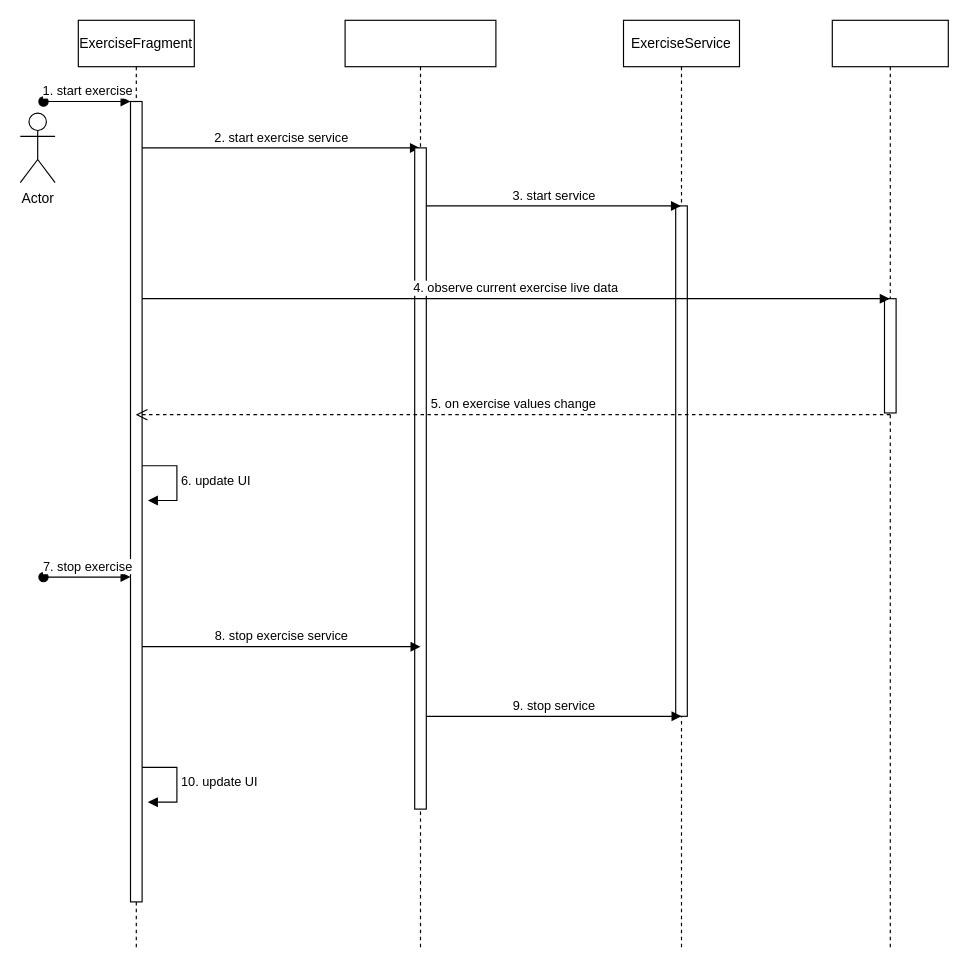
The diagram is 969 pixels wide and 969 high, and some of its shapes have lost their labels. Each missing label, with the box of its shape:
Exercise ViewModel: (831, 19, 948, 948)
ExerciseService Manager: (344, 19, 496, 948)
